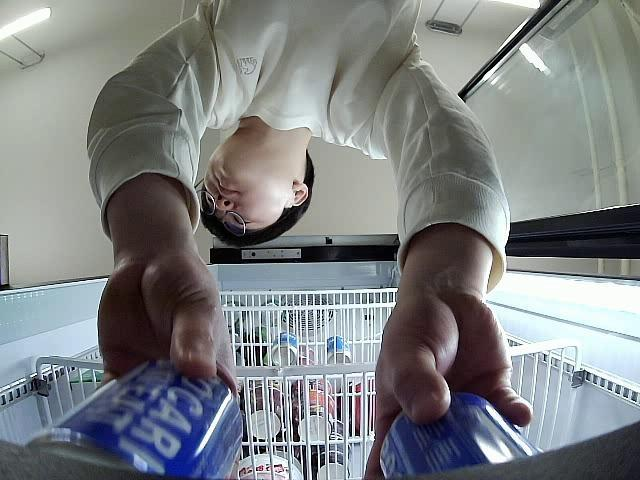13_pocariSweat: (22, 355, 244, 480), (377, 390, 548, 480)
